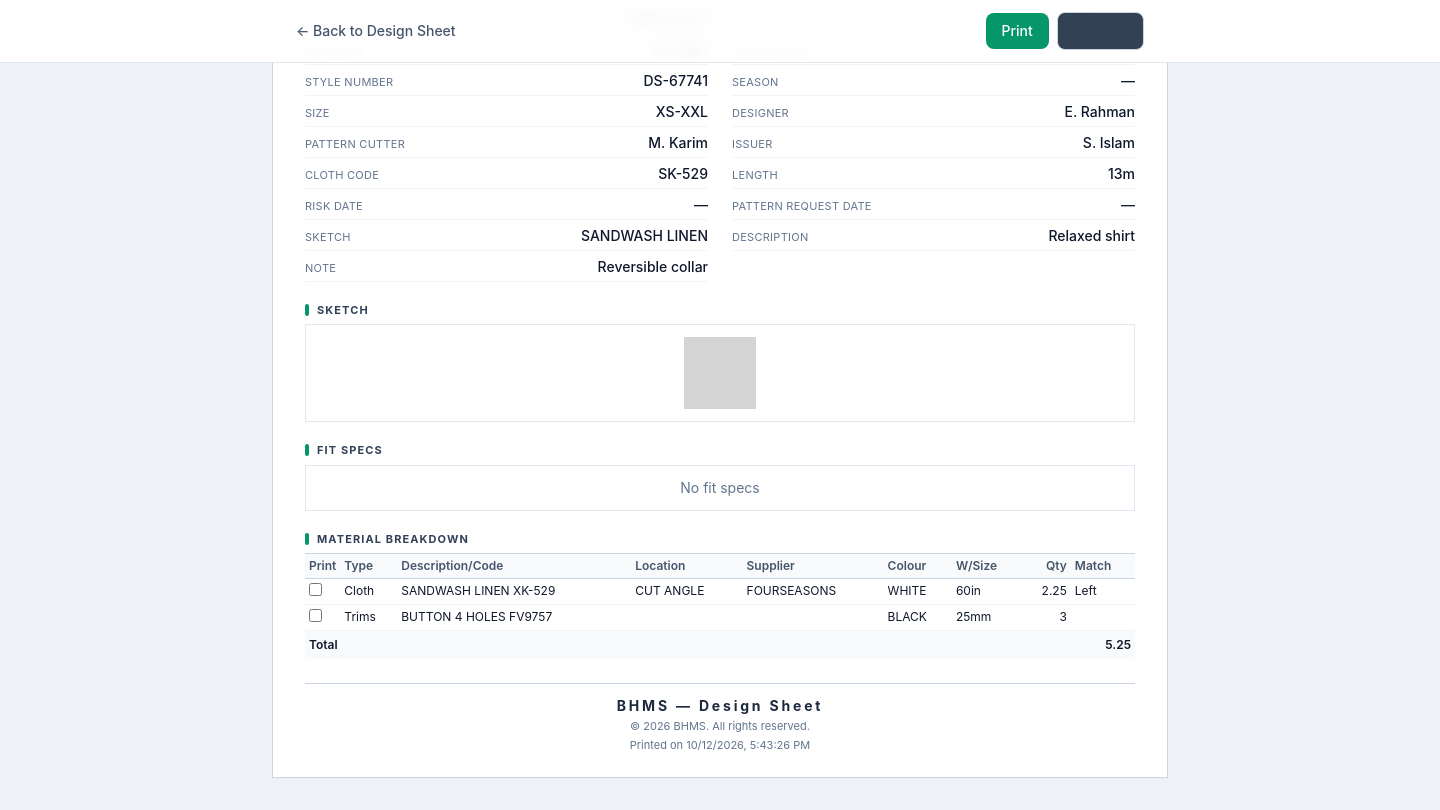
DesignSheetPrintPage › unticking all boxes restores the print-all behaviour
(page scrolled)
Click the checkbox with test id "print-item-tick-bi-1".
click(316, 590)  # box [309,583,322,596]
(page scrolled)
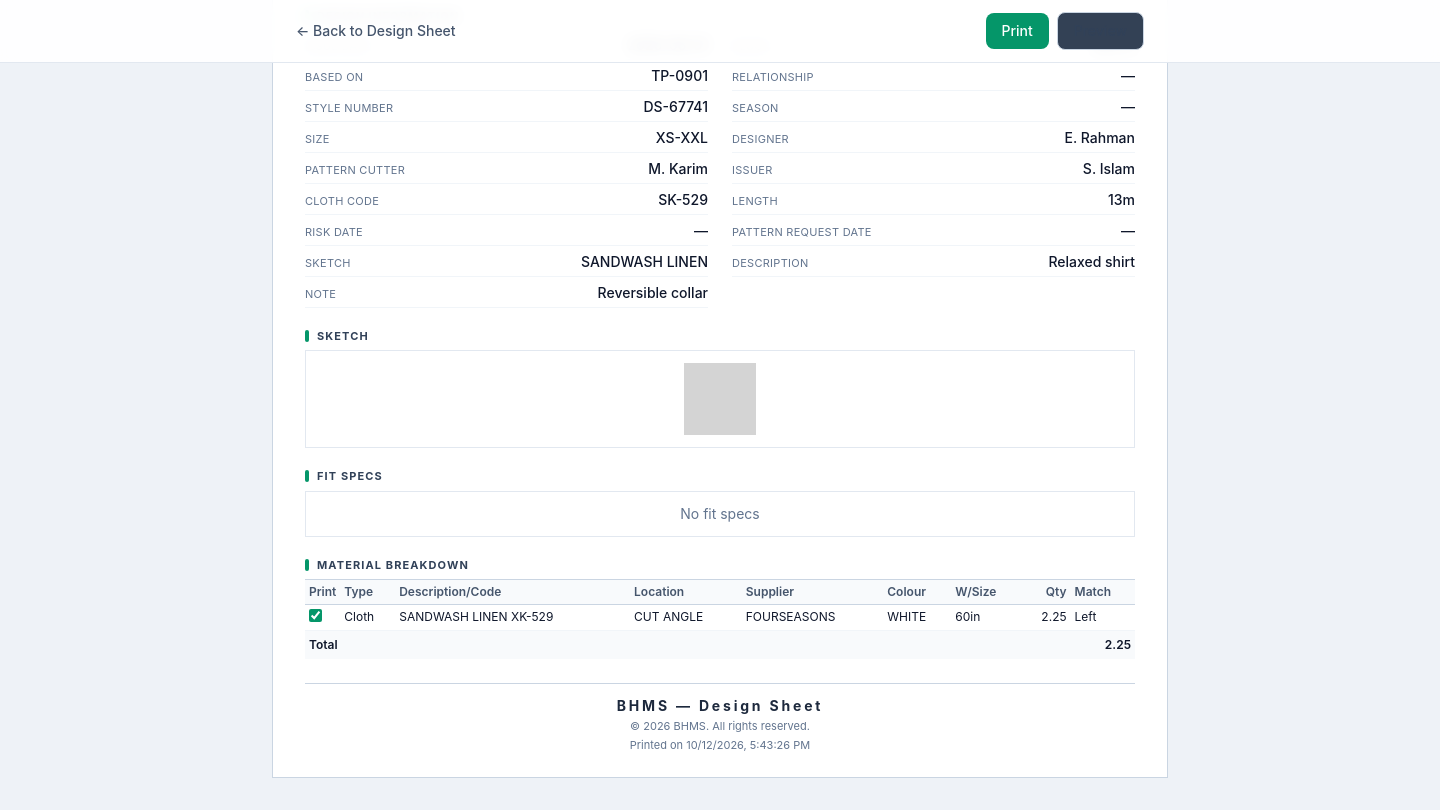
Click the checkbox with test id "print-item-tick-bi-1".
click(316, 616)  # box [309,609,322,622]
(page scrolled)
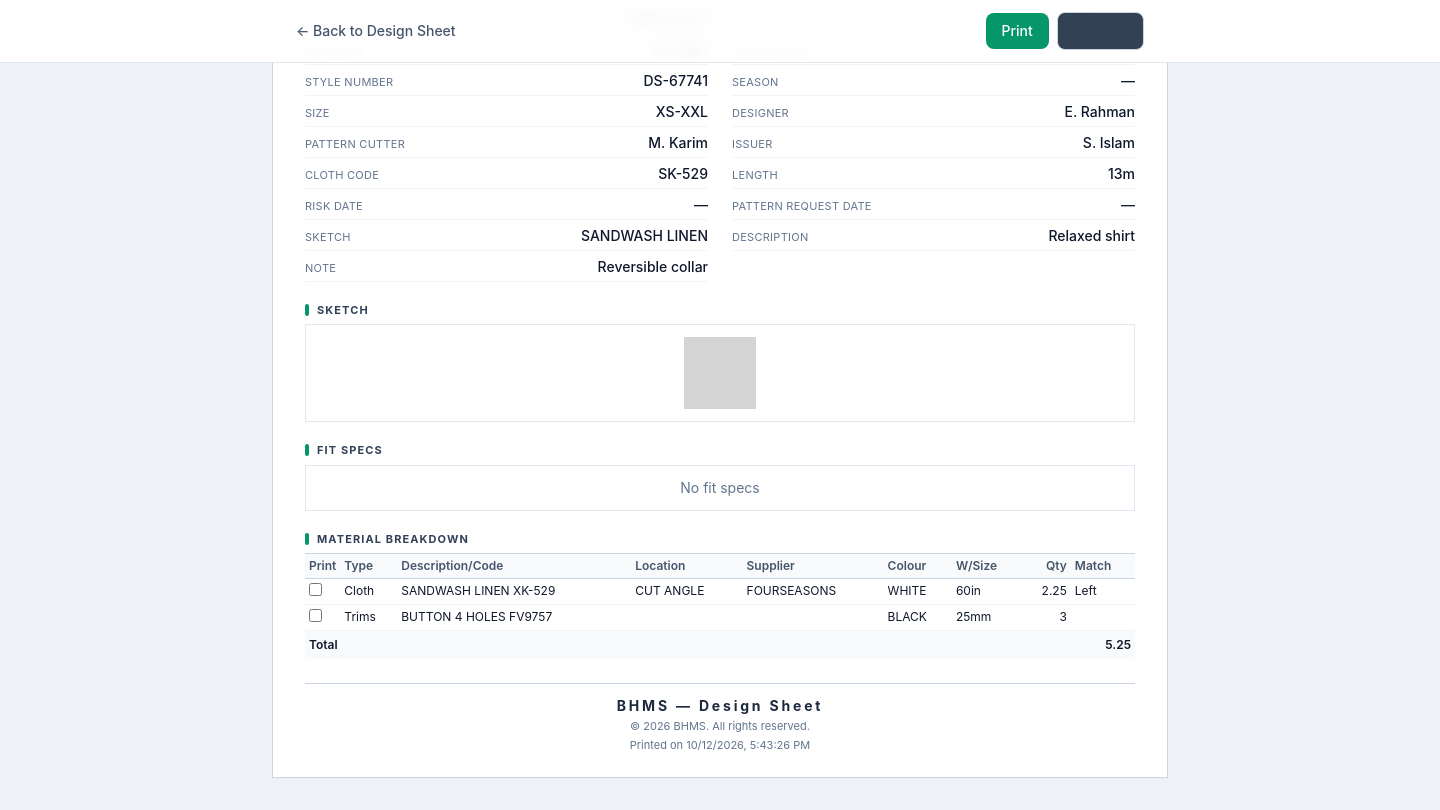
Check: the table with test id "print-material-grid" shows "SANDWASH LINEN XK-529", box [401,583,555,598]
Check: the table with test id "print-material-grid" shows "BUTTON 4 HOLES FV9757", box [401,609,552,624]
Check: the cell with test id "material-total" reads "5.25", box [1105,637,1131,652]
